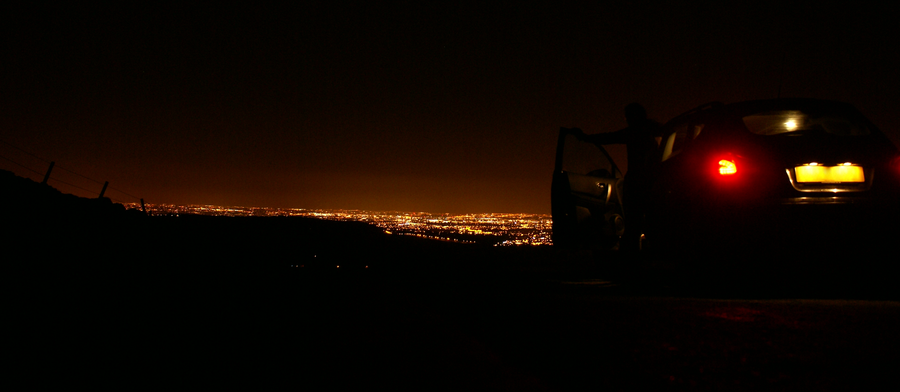car: (546, 97, 892, 305)
